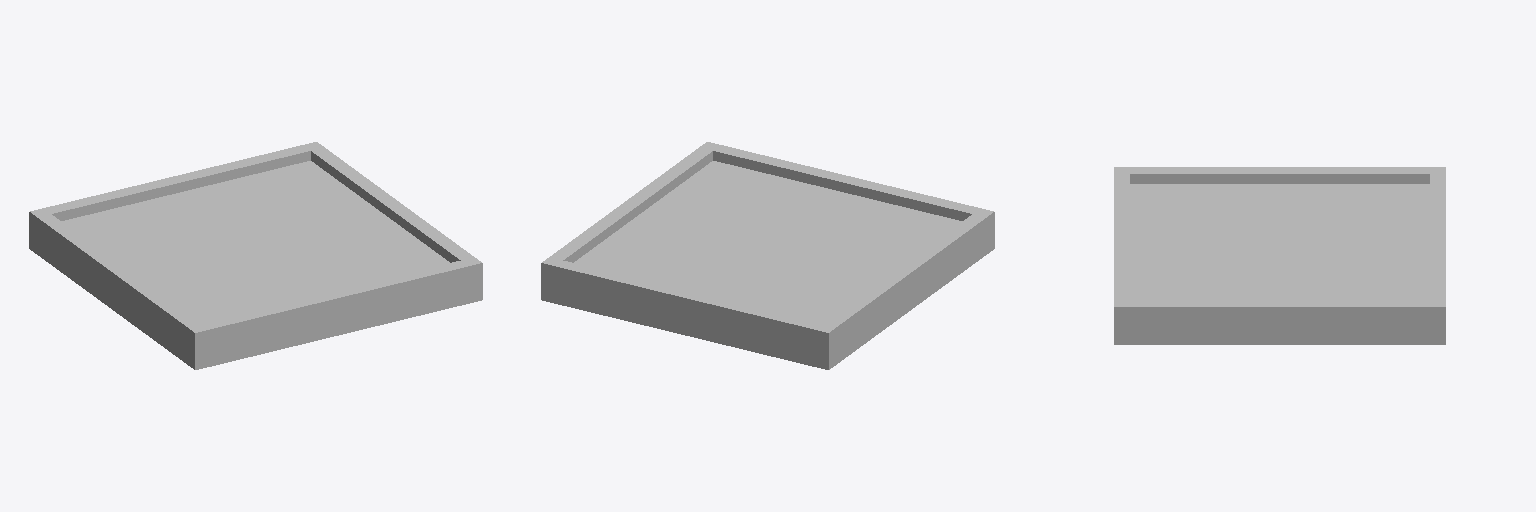
Rendered from Ground.obj.
The picture shows the model from 3 angles: view 1: azimuth 30°, elevation 25°; view 2: azimuth 150°, elevation 25°; view 3: azimuth 270°, elevation 25°; orthographic projection.
Visible parts, largest first — view 1: Plane_Plane.002; view 2: Plane_Plane.002; view 3: Plane_Plane.002.
Part boxes in pixels (x1,y1,x2,y2): Plane_Plane.002: (29,142,482,369); Plane_Plane.002: (541,142,994,369); Plane_Plane.002: (1114,167,1445,344).
Bounding box in the file's own units: 244 × 30.27 × 244.